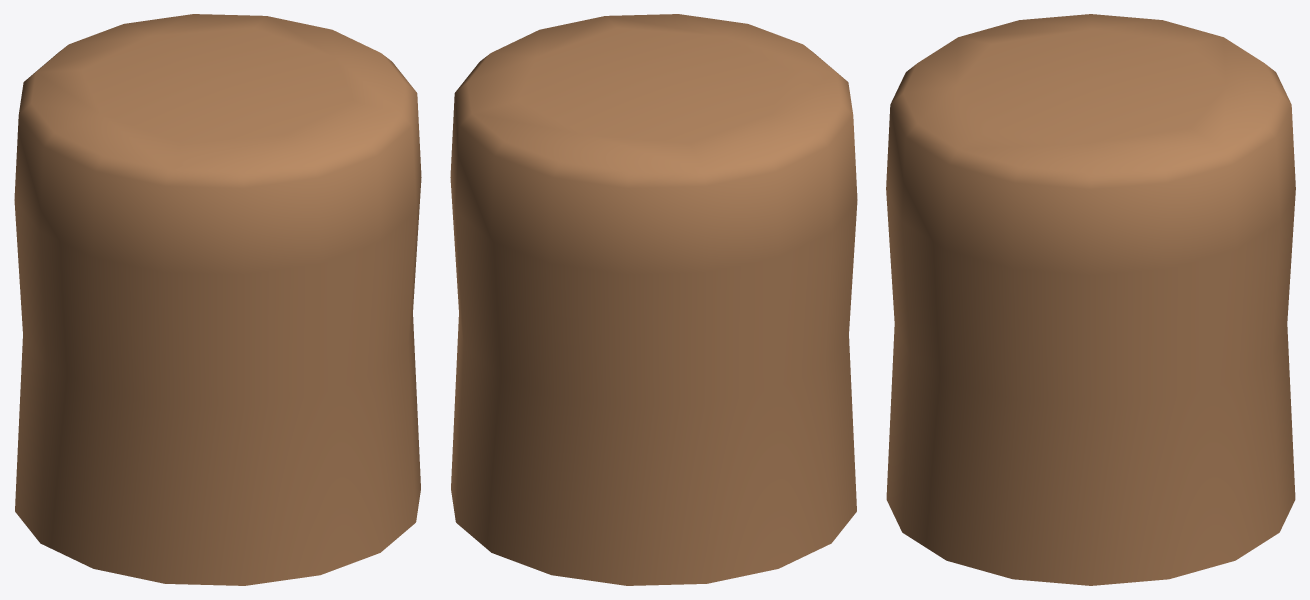
Rendered from SM_Stump.fbx.
3 renders of one model, left to right at view 1: azimuth 30°, elevation 25°; view 2: azimuth 150°, elevation 25°; view 3: azimuth 270°, elevation 25°, orthographic.
Parts seen in each view (by area): view 1: SM_Stump; view 2: SM_Stump; view 3: SM_Stump.
Part boxes in pixels (box(x1,y1,x2,y2)): SM_Stump: box(14, 14, 421, 585); SM_Stump: box(450, 14, 857, 585); SM_Stump: box(886, 14, 1295, 585).
Size of the model in its own units: 0.8629 by 0.9679 by 0.8629.
